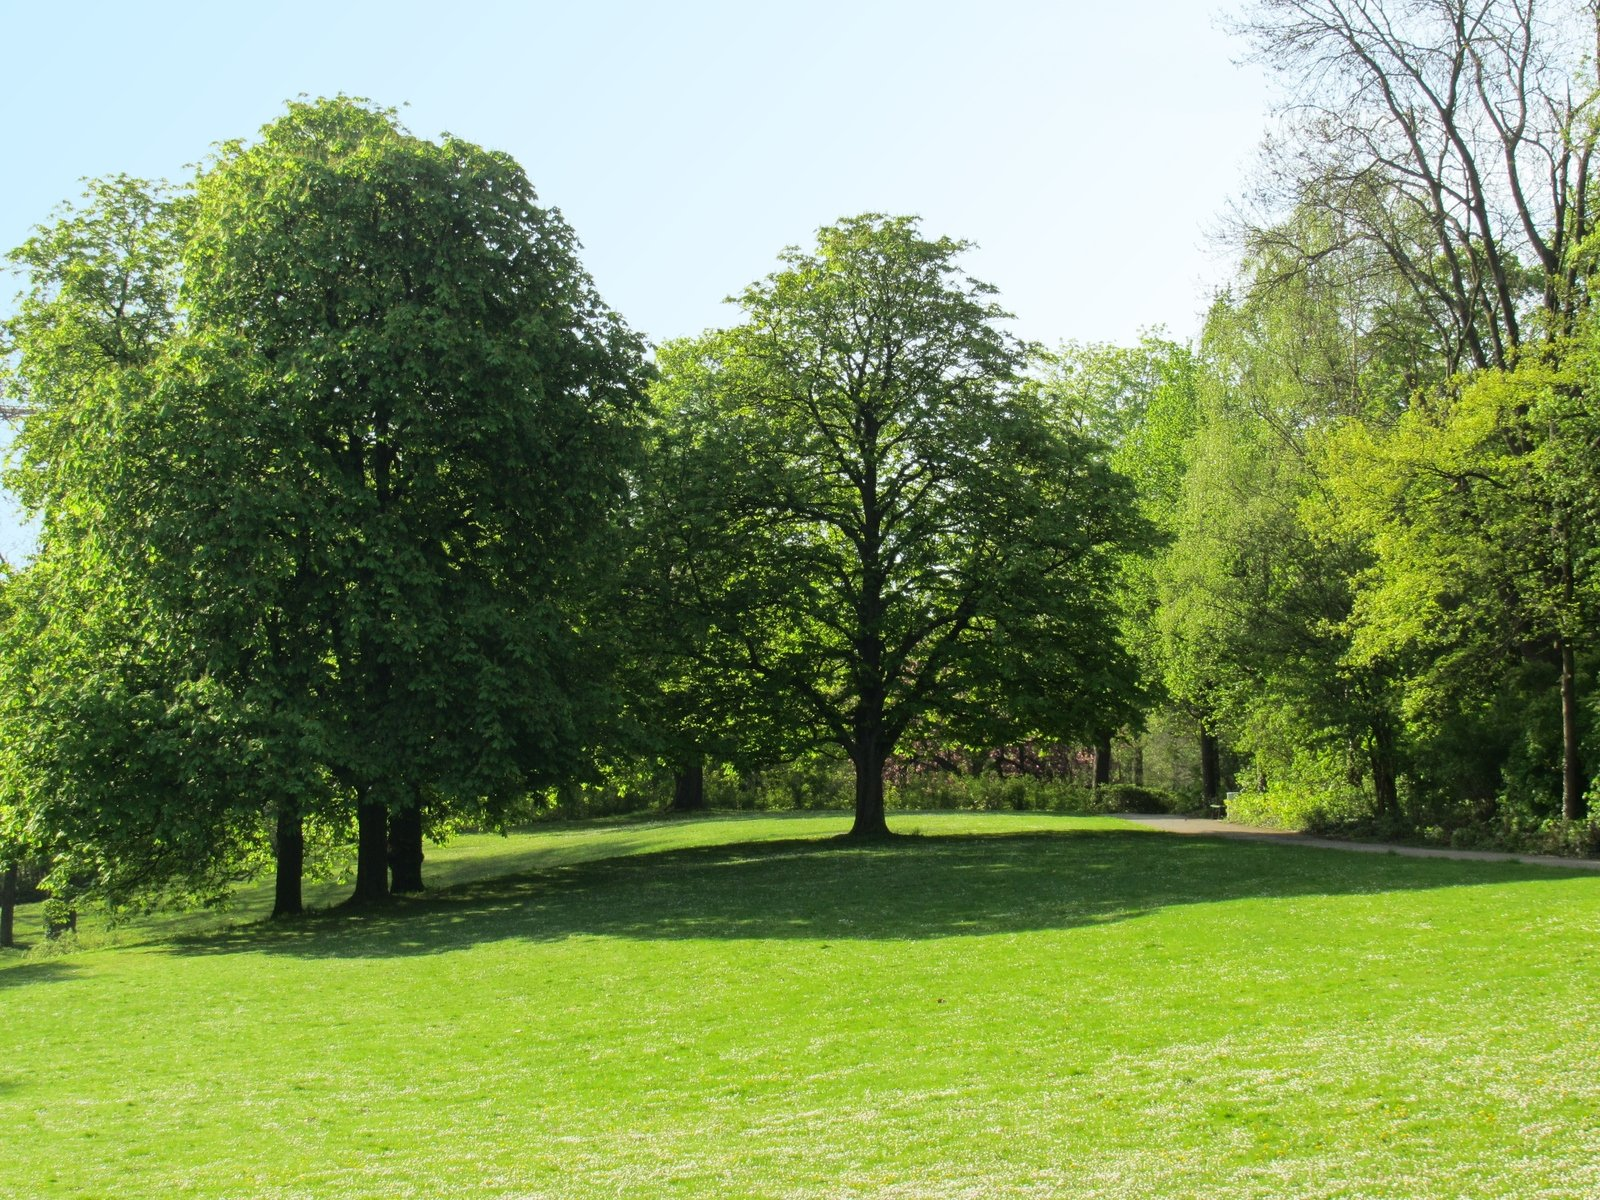tree: (122, 98, 627, 920), (637, 213, 1099, 845), (1141, 202, 1506, 836)
